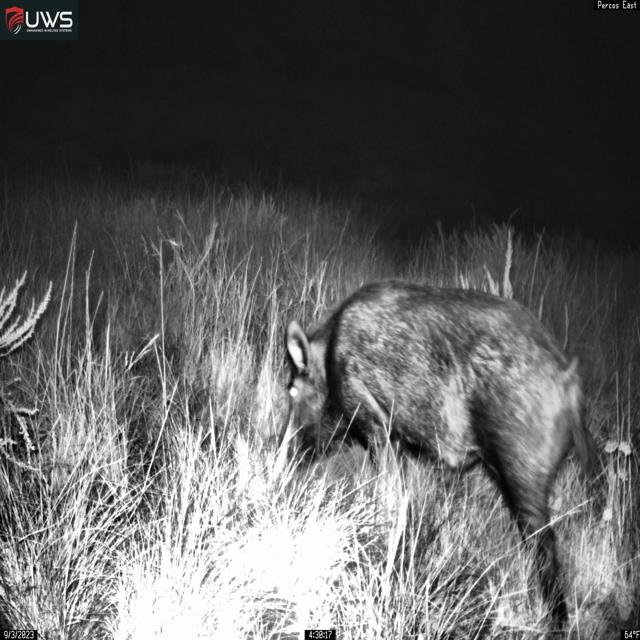pig: (277, 277, 598, 640)
